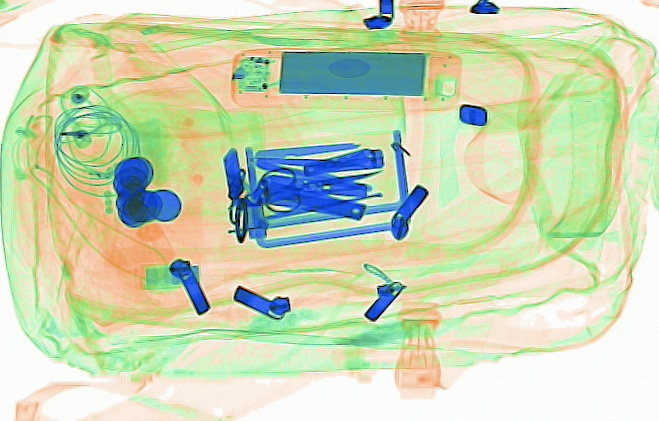scissors: (260, 165, 386, 211)
